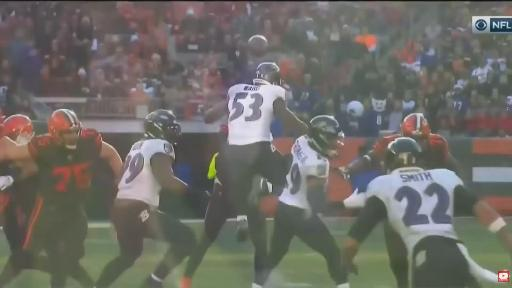Helmet: (308, 116, 343, 156), (48, 109, 81, 149), (385, 137, 422, 171), (144, 110, 180, 144), (4, 115, 33, 144), (401, 113, 430, 138), (253, 62, 281, 86)
Jersey: (367, 168, 462, 251), (28, 129, 102, 208), (117, 139, 174, 207), (279, 136, 329, 209), (228, 84, 285, 145), (423, 134, 449, 168)
Player: (342, 138, 511, 287), (0, 109, 122, 287), (206, 63, 307, 240), (96, 110, 195, 287), (268, 116, 345, 285), (341, 114, 458, 175), (181, 153, 231, 287), (0, 160, 49, 287)
